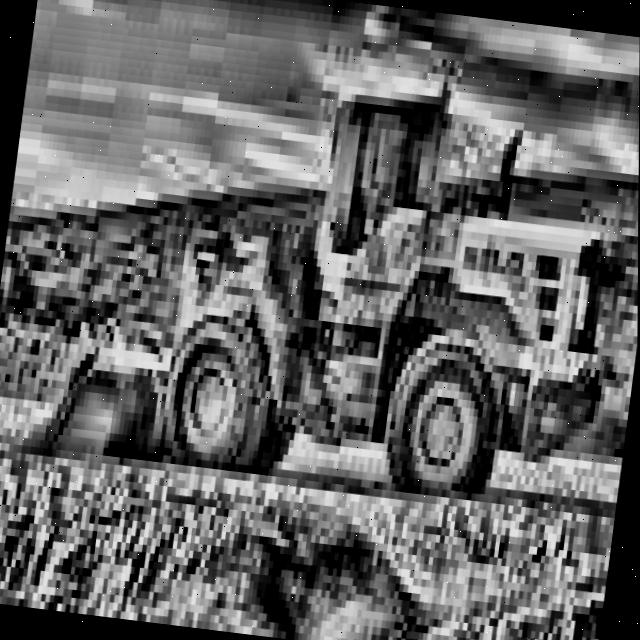buldozerpayloadergrader: (41, 27, 634, 521)
